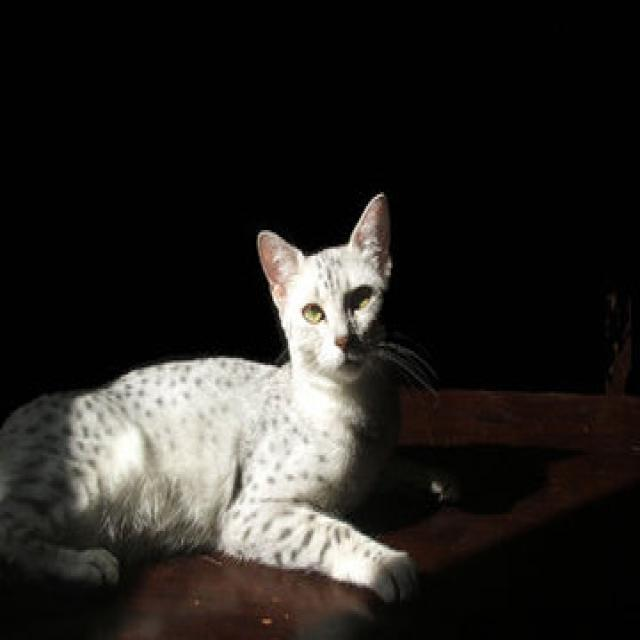Egyptian_Mau: (254, 190, 391, 379)
